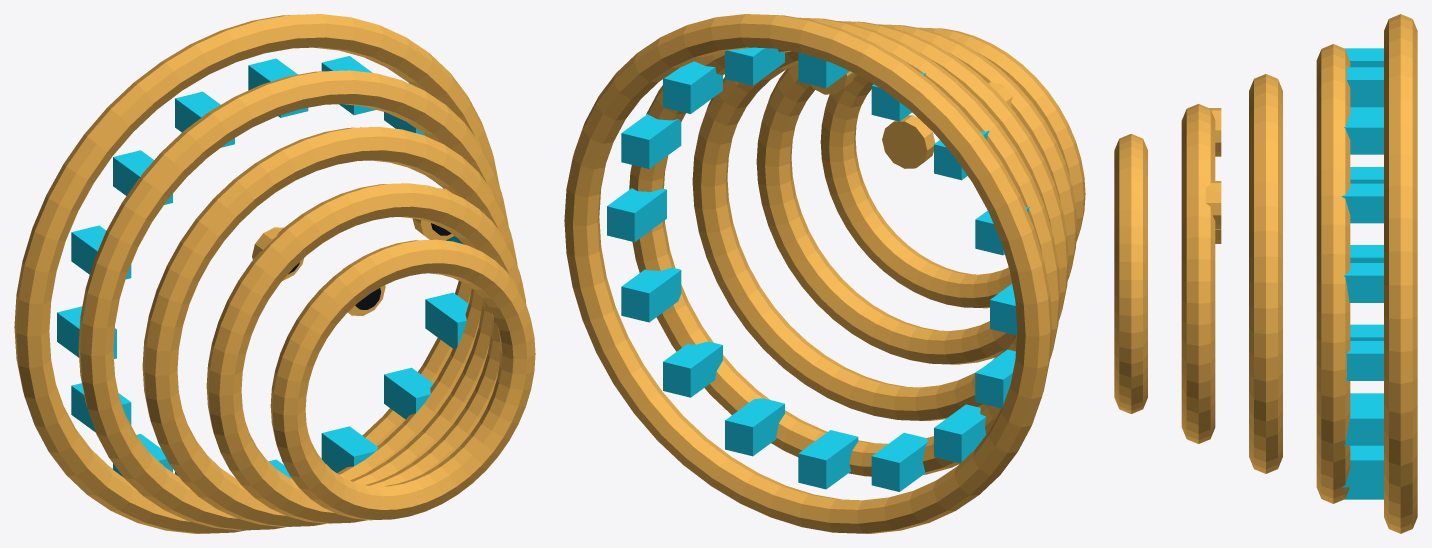
Rendered from 33_L91_TelescopeCalibrationTarget.fbx.
The picture shows the model from 3 angles, left to right: view 1: azimuth 30°, elevation 25°; view 2: azimuth 150°, elevation 25°; view 3: azimuth 270°, elevation 25°; orthographic projection. The views are drawn at different scales.
Parts seen in each view (by area): view 1: L91_TelescopeCalibrationTarget; view 2: L91_TelescopeCalibrationTarget, L91_TelescopeCalibrationTarget_Part_0004; view 3: L91_TelescopeCalibrationTarget, L91_TelescopeCalibrationTarget_Part_0006, L91_TelescopeCalibrationTarget_Part_0002.
Part boxes in pixels (x1=…): L91_TelescopeCalibrationTarget: x1=14, y1=14, x2=535, y2=533; L91_TelescopeCalibrationTarget: x1=564, y1=14, x2=1085, y2=533; L91_TelescopeCalibrationTarget_Part_0004: x1=882, y1=115, x2=935, y2=168; L91_TelescopeCalibrationTarget: x1=1114, y1=14, x2=1417, y2=533; L91_TelescopeCalibrationTarget_Part_0006: x1=1205, y1=181, x2=1221, y2=229; L91_TelescopeCalibrationTarget_Part_0002: x1=1209, y1=108, x2=1221, y2=156.
Size of the model in its own units: 139 by 139 by 81.
